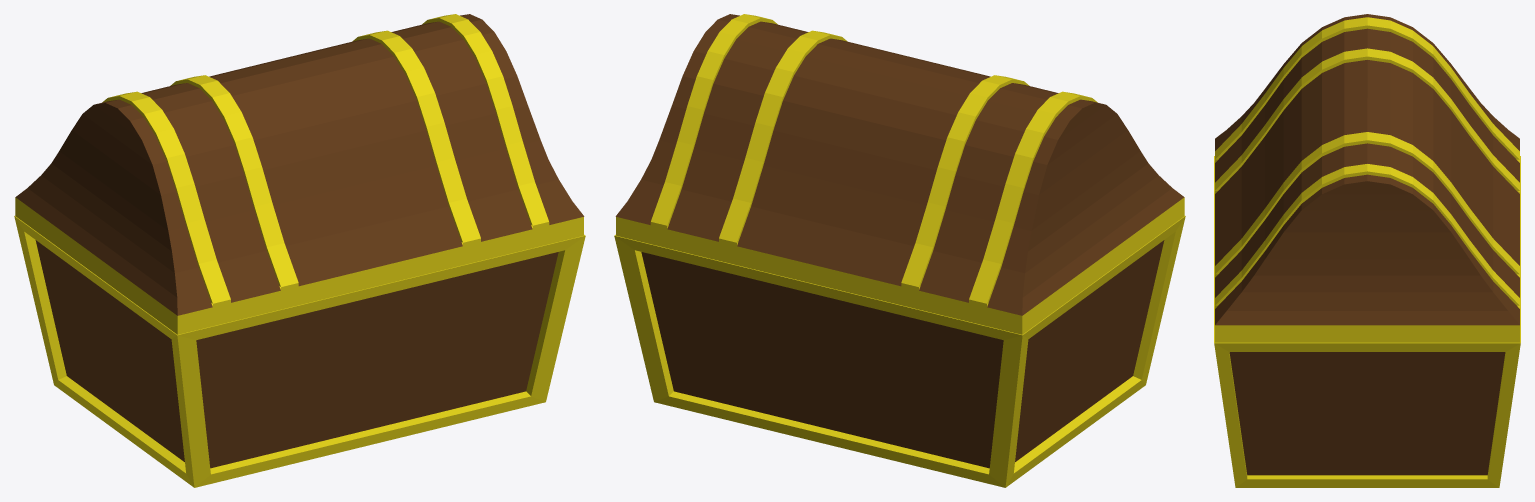
File: Treasure Chest_JB.fbx
3 renders of one model, left to right at view 1: azimuth 30°, elevation 25°; view 2: azimuth 150°, elevation 25°; view 3: azimuth 270°, elevation 25°, orthographic. The views are drawn at different scales.
Visible parts, largest first — view 1: Lid, Bottom; view 2: Lid, Bottom; view 3: Lid, Bottom.
Part boxes in pixels (x1,y1,x2,y2): Lid: (15,14,584,334); Bottom: (14,216,585,487); Lid: (615,14,1184,334); Bottom: (614,216,1185,487); Lid: (1215,14,1519,342); Bottom: (1214,156,1520,487).
Size of the model in its own units: 70.83 by 55.22 by 49.02.
